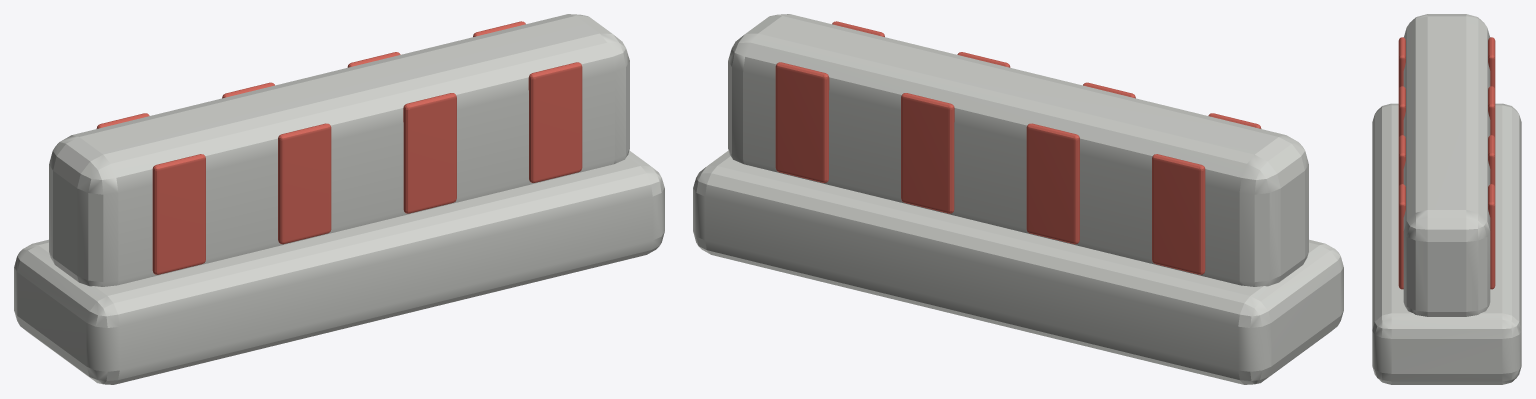
The model's file is barrier.glb.
The picture shows the model from 3 angles, left to right: view 1: azimuth 30°, elevation 25°; view 2: azimuth 150°, elevation 25°; view 3: azimuth 270°, elevation 25°; orthographic projection. The views are drawn at different scales.
Parts seen in each view (by area): view 1: Surface_Concrete, Surface_Stripe; view 2: Surface_Concrete, Surface_Stripe; view 3: Surface_Concrete, Surface_Stripe.
Boxes of the visible parts, <box> form: Surface_Concrete: <box>14,14,664,384</box>; Surface_Stripe: <box>96,21,582,274</box>; Surface_Concrete: <box>693,14,1343,384</box>; Surface_Stripe: <box>775,21,1261,274</box>; Surface_Concrete: <box>1372,14,1521,384</box>; Surface_Stripe: <box>1398,37,1495,289</box>.
Size of the model in its own units: 2.2 by 0.76 by 0.62.
